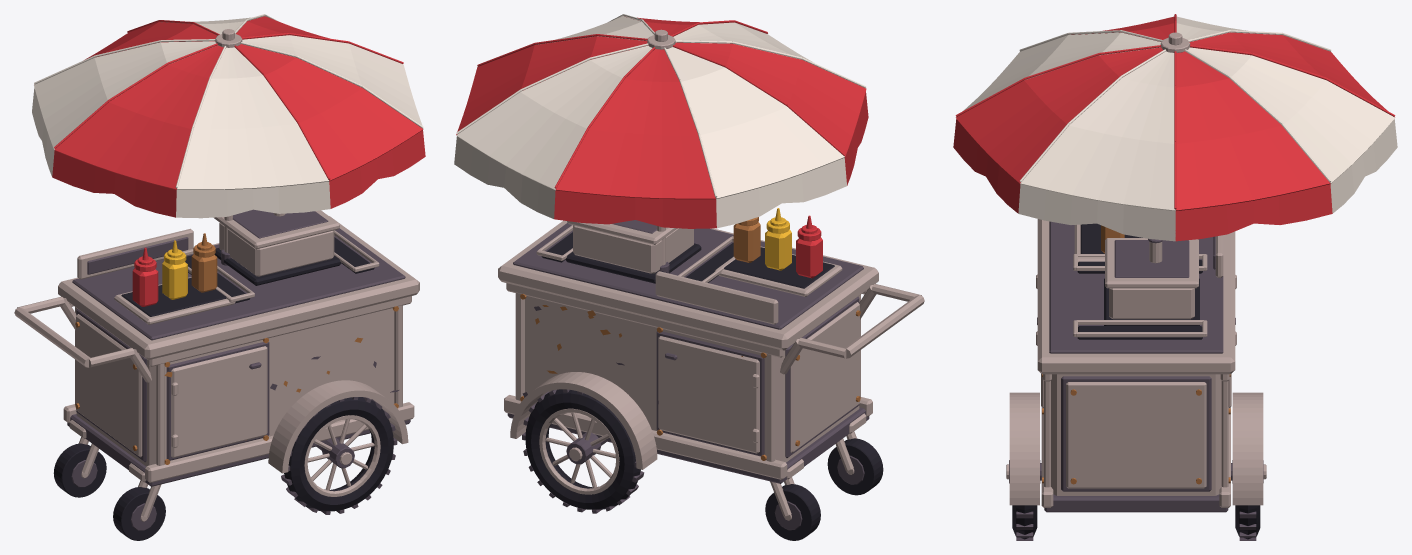
3 views of the same model, side by side, from view 1: azimuth 30°, elevation 25°; view 2: azimuth 150°, elevation 25°; view 3: azimuth 270°, elevation 25° (orthographic). The views are drawn at different scales.
Parts seen in each view (by area): view 1: body, static_pal_survivorRed, static_pal_picketWhite, static_pal_asphalt, doorR, wheelR, static_pal_uiDark, wheelCasterL, wheelCasterR, static_pal_woodWarm, static_pal_schoolBusYellow; view 2: body, static_pal_survivorRed, static_pal_picketWhite, static_pal_asphalt, doorL, wheelL, static_pal_uiDark, wheelCasterL, wheelCasterR, static_pal_woodWarm, static_pal_schoolBusYellow; view 3: body, static_pal_picketWhite, static_pal_survivorRed, static_pal_asphalt, static_pal_uiDark, wheelR, wheelL.
Boxes of the visible parts, x1=… form: body: x1=14, y1=29, x2=419, y2=517; static_pal_survivorRed: x1=52, y1=16, x2=425, y2=306; static_pal_picketWhite: x1=32, y1=14, x2=423, y2=218; static_pal_asphalt: x1=67, y1=209, x2=410, y2=486; doorR: x1=171, y1=346, x2=267, y2=457; wheelR: x1=281, y1=397, x2=397, y2=514; static_pal_uiDark: x1=121, y1=237, x2=374, y2=316; wheelCasterL: x1=53, y1=443, x2=106, y2=497; wheelCasterR: x1=113, y1=487, x2=165, y2=540; static_pal_woodWarm: x1=75, y1=233, x2=398, y2=464; static_pal_schoolBusYellow: x1=162, y1=240, x2=187, y2=299; body: x1=498, y1=29, x2=924, y2=516; static_pal_survivorRed: x1=456, y1=16, x2=868, y2=278; static_pal_picketWhite: x1=454, y1=14, x2=866, y2=228; static_pal_asphalt: x1=507, y1=220, x2=869, y2=483; doorL: x1=658, y1=336, x2=759, y2=453; wheelL: x1=522, y1=389, x2=644, y2=513; static_pal_uiDark: x1=541, y1=232, x2=834, y2=288; wheelCasterL: x1=765, y1=484, x2=820, y2=540; wheelCasterR: x1=827, y1=438, x2=883, y2=495; static_pal_woodWarm: x1=520, y1=217, x2=860, y2=460; static_pal_schoolBusYellow: x1=765, y1=208, x2=791, y2=270; body: x1=1009, y1=32, x2=1263, y2=507; static_pal_picketWhite: x1=956, y1=16, x2=1397, y2=241; static_pal_survivorRed: x1=953, y1=14, x2=1395, y2=241; static_pal_asphalt: x1=1040, y1=221, x2=1232, y2=512; static_pal_uiDark: x1=1077, y1=223, x2=1202, y2=339; wheelR: x1=1006, y1=460, x2=1040, y2=540; wheelL: x1=1232, y1=460, x2=1266, y2=540.
Bounding box in the file's own units: 2.4 × 2.69 × 2.27.
